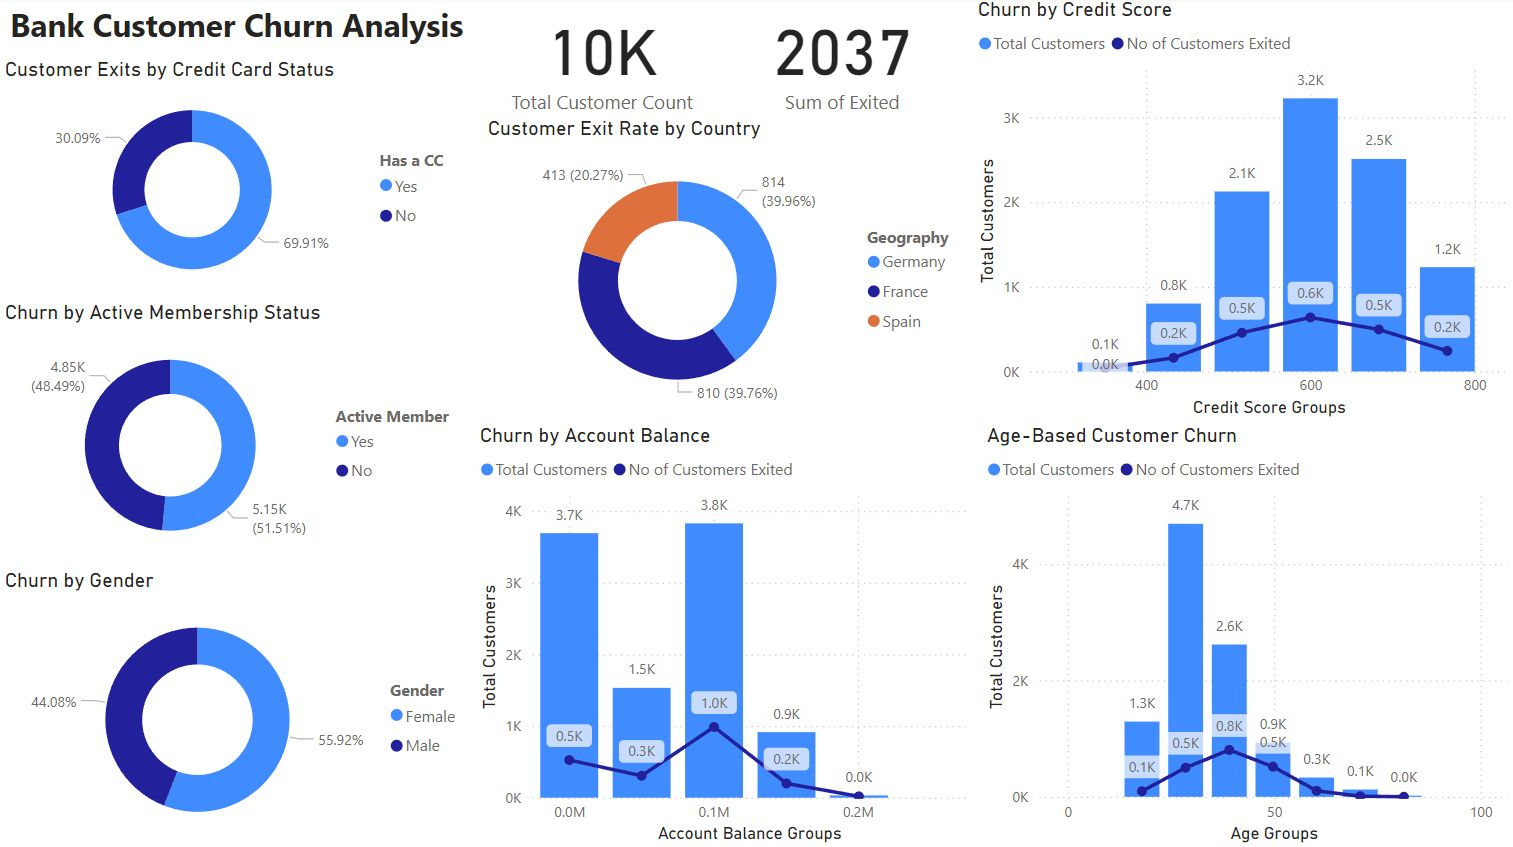

The page's visual inventory and layout, read from the dashboard file:
{"tool":"powerbi","page":{"name":"Page 1","canvas":[1280,720],"ordinal":0},"visuals":[{"type":"lineClusteredColumnComboChart","title":"Age-Based Customer Churn","fields":{"Y2":["Sum(Bank_Churn.Exited Y)"],"Category":["Bank_Churn.Age Groups"],"Y":["CountNonNull(Bank_Churn.Exited)"]},"box":[829.9,360,450.4,360],"z":0},{"type":"lineClusteredColumnComboChart","title":"Churn by Account Balance","fields":{"Y2":["Sum(Bank_Churn.Exited Y)"],"Category":["Bank_Churn.Balance (bins)"],"Y":["CountNonNull(Bank_Churn.Exited)"]},"box":[401.4,360,420.8,360],"z":1000},{"type":"card","fields":{"Values":["CountNonNull(Bank_Churn.CustomerId)"]},"box":[401.1,0,216.7,100.8],"z":2000},{"type":"card","fields":{"Values":["Sum(Bank_Churn.Exited)"]},"box":[611.8,0,201.6,100.8],"z":3000},{"type":"lineClusteredColumnComboChart","title":"Churn by Credit Score","fields":{"Y2":["Sum(Bank_Churn.Exited Y)"],"Y":["CountNonNull(Bank_Churn.Exited)"],"Category":["Bank_Churn.CreditScore (bins)"]},"box":[822.4,0,457.6,359.8],"z":4000},{"type":"donutChart","title":"Churn by Gender","fields":{"Y":["Sum(Bank_Churn.Exited Y)"],"Category":["Bank_Churn.Gender"]},"box":[0,482.5,401.4,237.5],"z":5000},{"type":"donutChart","title":"Customer Exits by Credit Card Status","fields":{"Category":["Bank_Churn.HasCrCard - Copy"],"Y":["Sum(Bank_Churn.Exited Y)"]},"box":[0,50.7,401.4,205.4],"z":6000},{"type":"donutChart","title":"Churn by Active Membership Status","fields":{"Y":["CountNonNull(Bank_Churn.Exited)"],"Category":["Bank_Churn.IsActiveMember - Copy"]},"box":[0,256.1,401.4,226.5],"z":7000},{"type":"donutChart","title":"Customer Exit Rate by Country","fields":{"Category":["Bank_Churn.Geography"],"Y":["Sum(Bank_Churn.Exited Y)"]},"box":[408.2,100.8,418.3,259],"z":8000},{"type":"textbox","box":[0,0,401.4,50.7],"z":9000}]}

Visuals, with their boxes in screenshot pixels (x1, y1, x2, y2), scaled from the page's 1280x720 canvas onto the 1513x847 screenshot:
"Age-Based Customer Churn" lineClusteredColumnComboChart: [981, 424, 1512, 846]
"Churn by Account Balance" lineClusteredColumnComboChart: [474, 424, 972, 846]
card - CountNonNull(Bank_Churn.CustomerId): [474, 0, 730, 119]
card - Sum(Bank_Churn.Exited): [723, 0, 961, 119]
"Churn by Credit Score" lineClusteredColumnComboChart: [972, 0, 1512, 423]
"Churn by Gender" donutChart: [0, 568, 474, 846]
"Customer Exits by Credit Card Status" donutChart: [0, 60, 474, 301]
"Churn by Active Membership Status" donutChart: [0, 301, 474, 568]
"Customer Exit Rate by Country" donutChart: [483, 119, 977, 423]
textbox: [0, 0, 474, 60]
